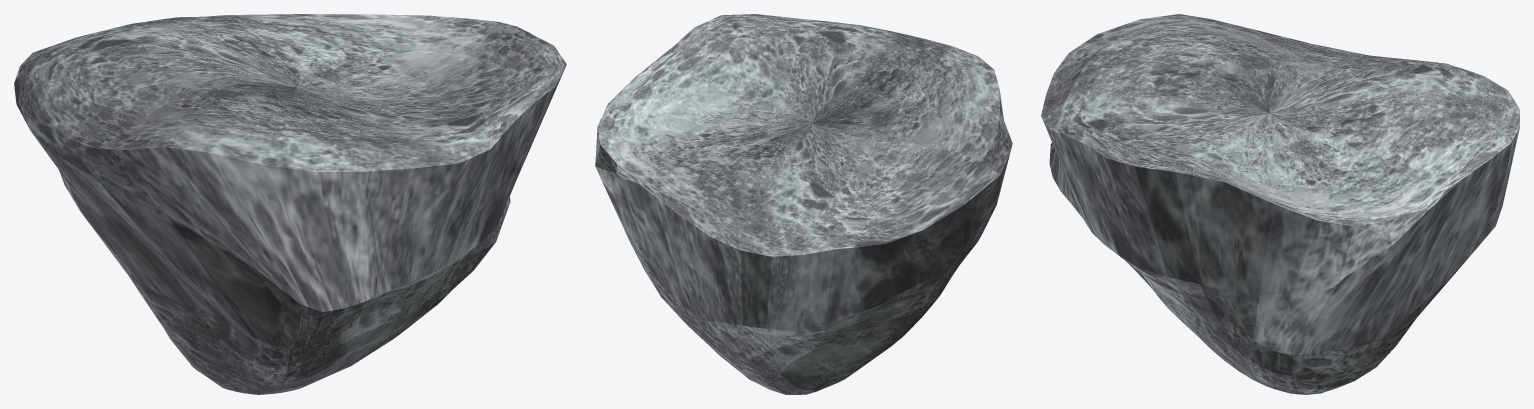
File: center_rock.glb
3 renders of one model, left to right at view 1: azimuth 30°, elevation 25°; view 2: azimuth 150°, elevation 25°; view 3: azimuth 270°, elevation 25°, orthographic. The views are drawn at different scales.
Visible parts, largest first — view 1: Sphere; view 2: Sphere; view 3: Sphere.
Boxes of the visible parts, x1,y1,x2,y2 form: Sphere: (14, 14, 566, 394); Sphere: (595, 14, 1012, 394); Sphere: (1041, 14, 1519, 394).
Size of the model in its own units: 36.49 by 27.07 by 38.92.
Materials: 1 (1 with a texture image).
